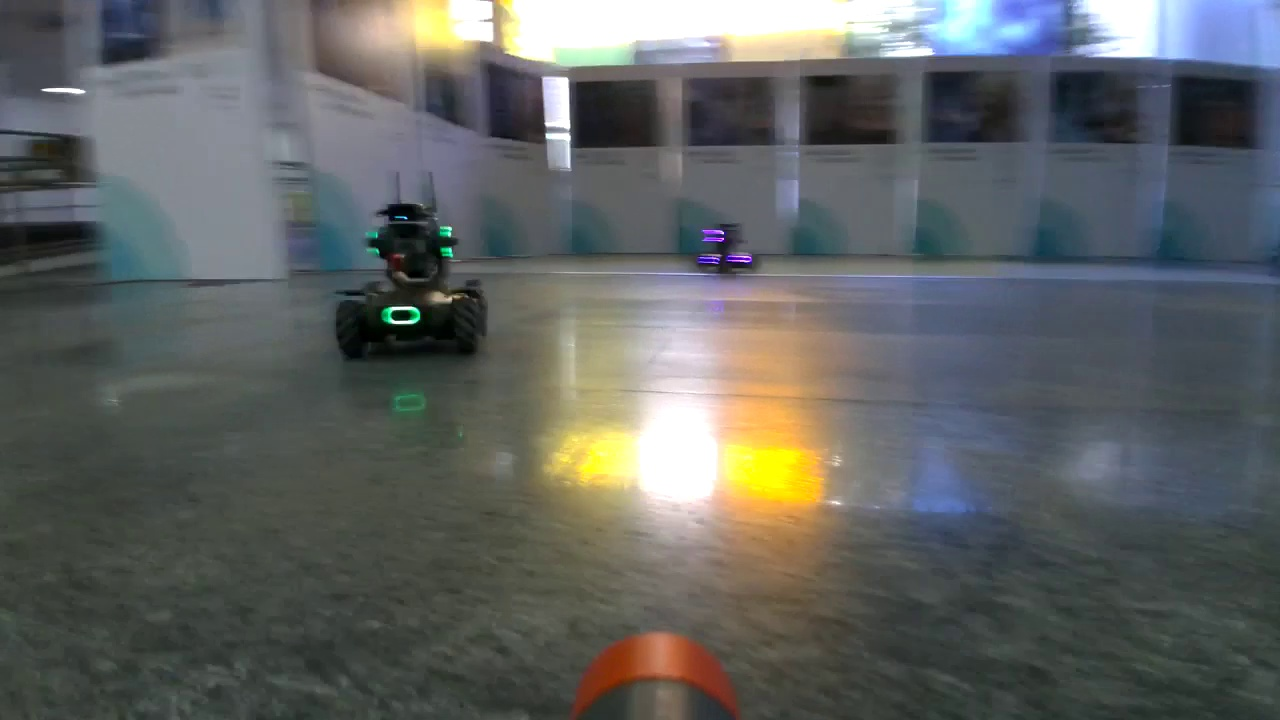robot: (334, 169, 491, 357), (696, 224, 758, 277)
